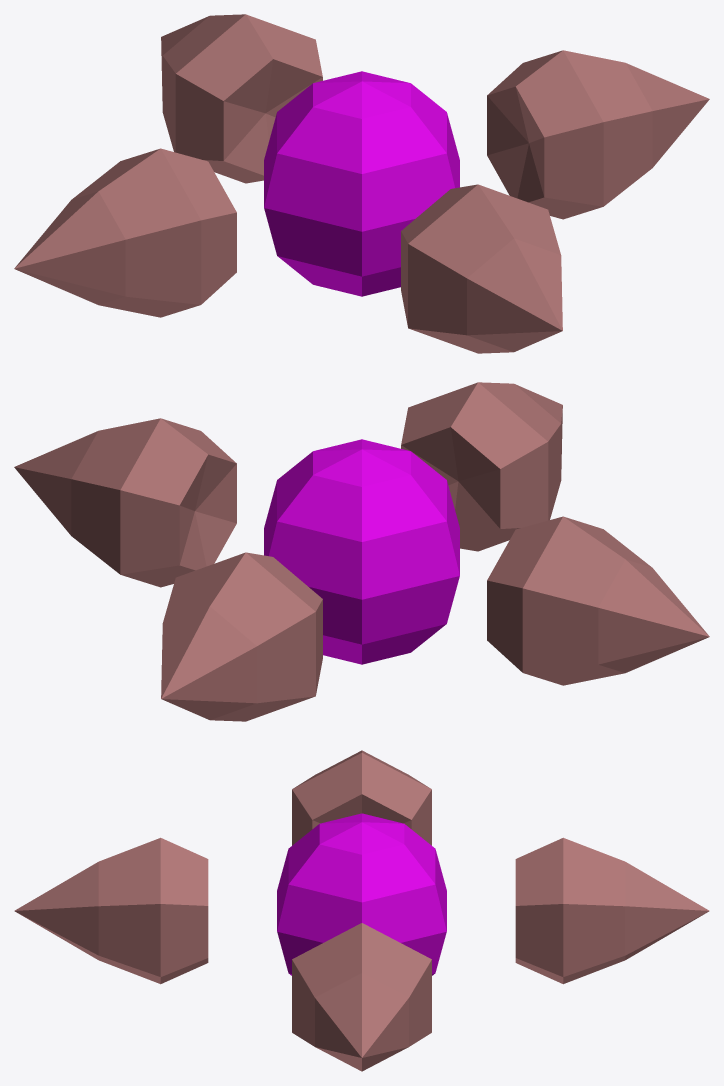
Rendered from spikes.fbx.
3 renders of one model, top to bottom at view 1: azimuth 30°, elevation 25°; view 2: azimuth 150°, elevation 25°; view 3: azimuth 270°, elevation 25°, orthographic. The views are drawn at different scales.
Visible parts, largest first — view 1: pasted__pCylinder1 (×3), pSphere1, pCylinder1; view 2: pasted__pCylinder1 (×3), pSphere1, pCylinder1; view 3: pasted__pCylinder1 (×3), pSphere1, pCylinder1.
Part boxes in pixels (bbox=[...]): pasted__pCylinder1 (×3): bbox=[14, 50, 709, 353]; pSphere1: bbox=[264, 71, 459, 296]; pCylinder1: bbox=[161, 14, 322, 183]; pasted__pCylinder1 (×3): bbox=[14, 382, 709, 685]; pSphere1: bbox=[264, 439, 459, 664]; pCylinder1: bbox=[161, 552, 322, 721]; pasted__pCylinder1 (×3): bbox=[14, 750, 431, 1071]; pSphere1: bbox=[277, 813, 446, 975]; pCylinder1: bbox=[515, 837, 709, 984].
Size of the model in its own units: 6.36 by 1.79 by 6.36.
